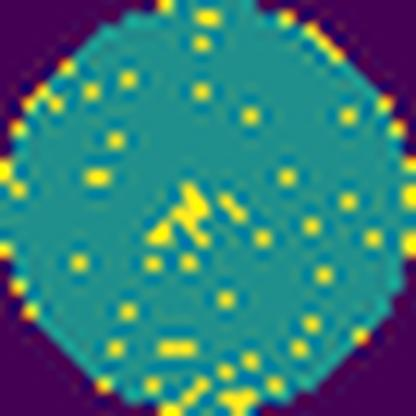Center: (140, 180, 221, 252)
